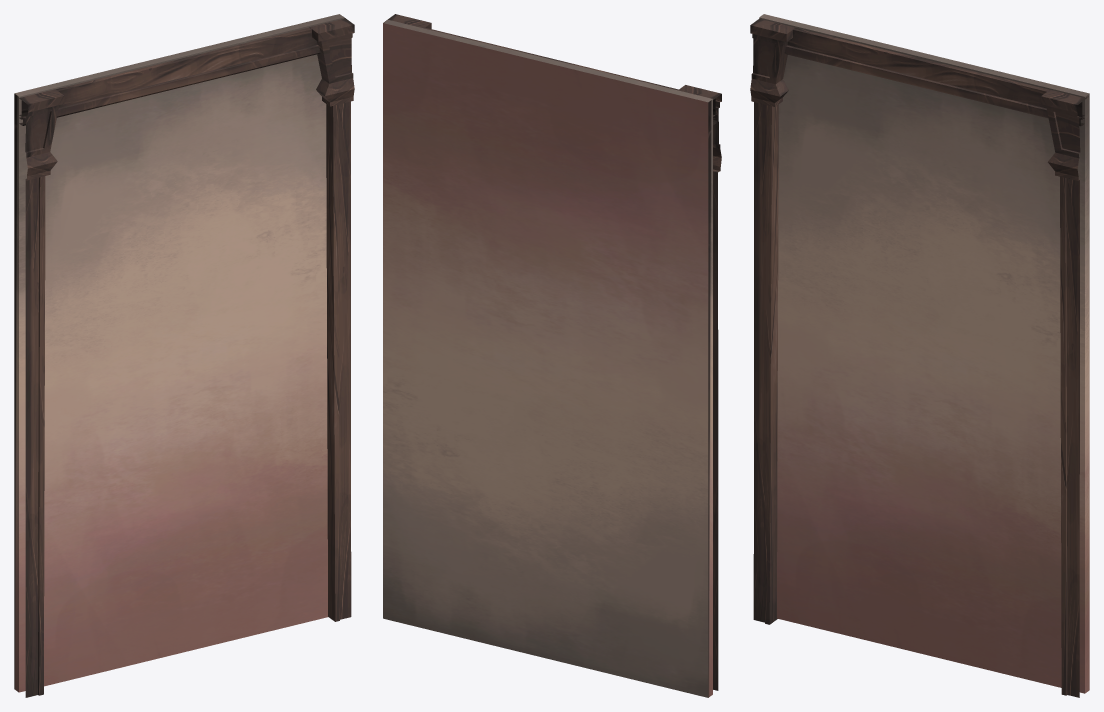
File: Wall_Top_Straight_V1.fbx
The picture shows the model from 3 angles, left to right: view 1: azimuth 30°, elevation 25°; view 2: azimuth 150°, elevation 25°; view 3: azimuth 330°, elevation 25°; orthographic projection.
Visible parts, largest first — view 1: Straight_Wall_Top; view 2: Straight_Wall_Top; view 3: Straight_Wall_Top.
Boxes of the visible parts, x1,y1,x2,y2 form: Straight_Wall_Top: [14, 14, 354, 697]; Straight_Wall_Top: [383, 14, 721, 697]; Straight_Wall_Top: [750, 14, 1089, 697].
Bounding box in the file's own units: 0.0241 × 0.0421 × 0.00174.
